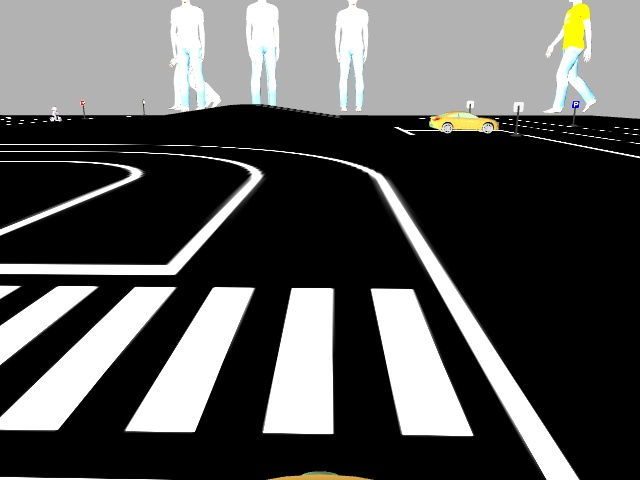Parking: (570, 98, 580, 108)
